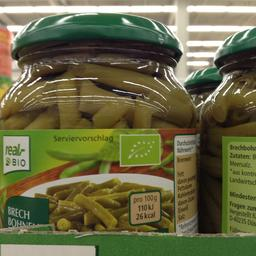beans: (4, 12, 202, 236)
